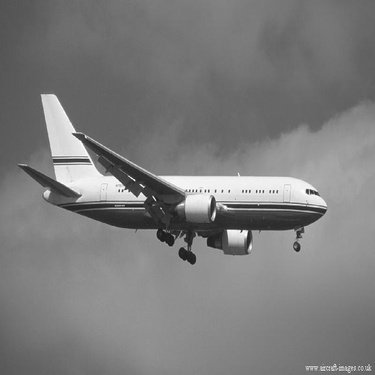airplane: (15, 81, 332, 272)
